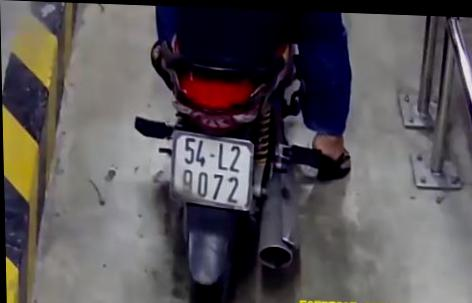License_Plate: (163, 128, 263, 217)
